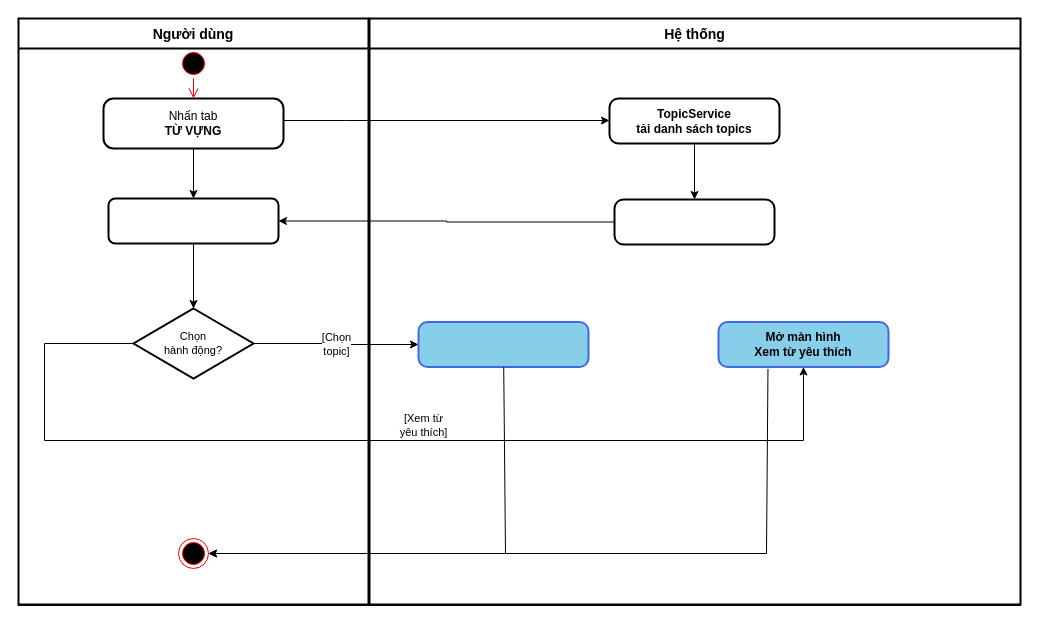
This 1038x623 diagram has some shape labels left out. The shapes that lost their labels are listed below. From the top down, each one's box as (x1, y1, x2, y2) in pixels, then its label:
(107, 197, 279, 244): Xem danh sách chủ đề từ vựng
(613, 198, 775, 245): Hiển thị Grid các topic cards
(417, 320, 589, 368): Mở màn hình Học Flashcard
